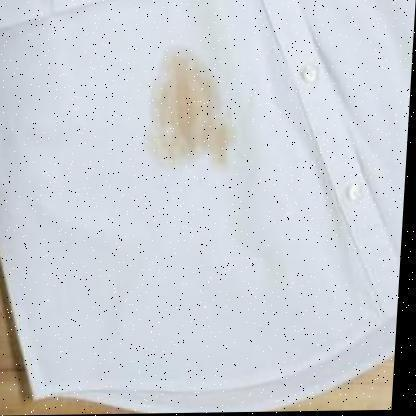coffee: (156, 62, 212, 155)
